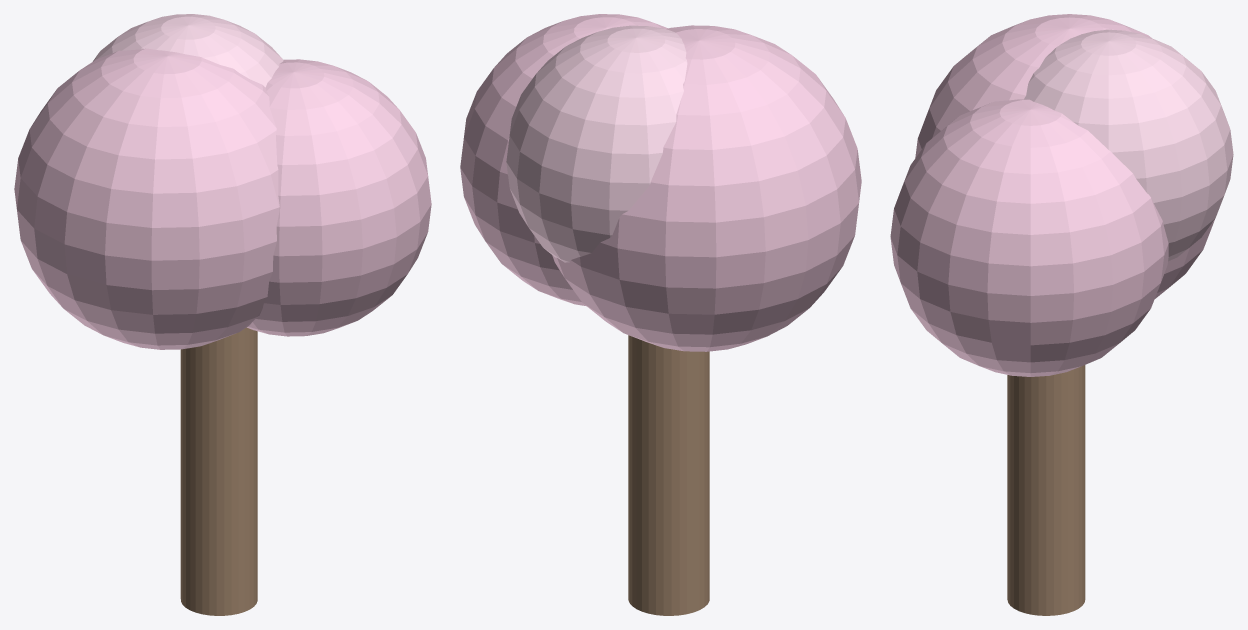
Rendered from pickup.cherry-tree.v1.glb.
3 views of the same model, side by side, from view 1: azimuth 30°, elevation 25°; view 2: azimuth 150°, elevation 25°; view 3: azimuth 270°, elevation 25° (orthographic). The views are drawn at different scales.
Visible parts, largest first — view 1: pickup.cherry-tree.v1_canopy_1, pickup.cherry-tree.v1_canopy_2, pickup.cherry-tree.v1_trunk, pickup.cherry-tree.v1_canopy_3; view 2: pickup.cherry-tree.v1_canopy_1, pickup.cherry-tree.v1_canopy_3, pickup.cherry-tree.v1_trunk, pickup.cherry-tree.v1_canopy_2; view 3: pickup.cherry-tree.v1_canopy_2, pickup.cherry-tree.v1_canopy_3, pickup.cherry-tree.v1_trunk, pickup.cherry-tree.v1_canopy_1.
Part boxes in pixels (x1,y1,x2,y2): pickup.cherry-tree.v1_canopy_1: (14,48,279,349); pickup.cherry-tree.v1_canopy_2: (247,59,431,336); pickup.cherry-tree.v1_trunk: (180,327,257,615); pickup.cherry-tree.v1_canopy_3: (93,14,283,87); pickup.cherry-tree.v1_canopy_1: (552,25,861,351); pickup.cherry-tree.v1_canopy_3: (506,25,687,262); pickup.cherry-tree.v1_trunk: (628,335,709,615); pickup.cherry-tree.v1_canopy_2: (460,14,667,306); pickup.cherry-tree.v1_canopy_2: (890,99,1168,376); pickup.cherry-tree.v1_canopy_3: (1024,29,1233,261); pickup.cherry-tree.v1_trunk: (1007,365,1085,615); pickup.cherry-tree.v1_canopy_1: (915,14,1214,298).
Size of the model in its own units: 0.54 by 0.79 by 0.44.
